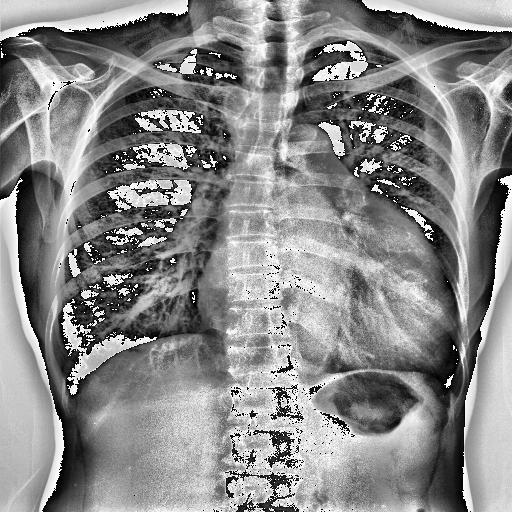0- Aortic enlargement: (276, 122, 334, 161)
10- Pleural effusion: (438, 370, 472, 404), (52, 367, 86, 400), (63, 378, 78, 408)
11- Pleural thickening: (438, 370, 472, 404), (52, 367, 86, 400), (63, 378, 78, 408)
3- Cardiomegaly: (198, 228, 450, 374), (190, 234, 449, 372), (194, 268, 452, 382)
